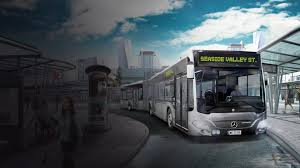bus: (147, 45, 270, 138), (119, 79, 150, 111)
